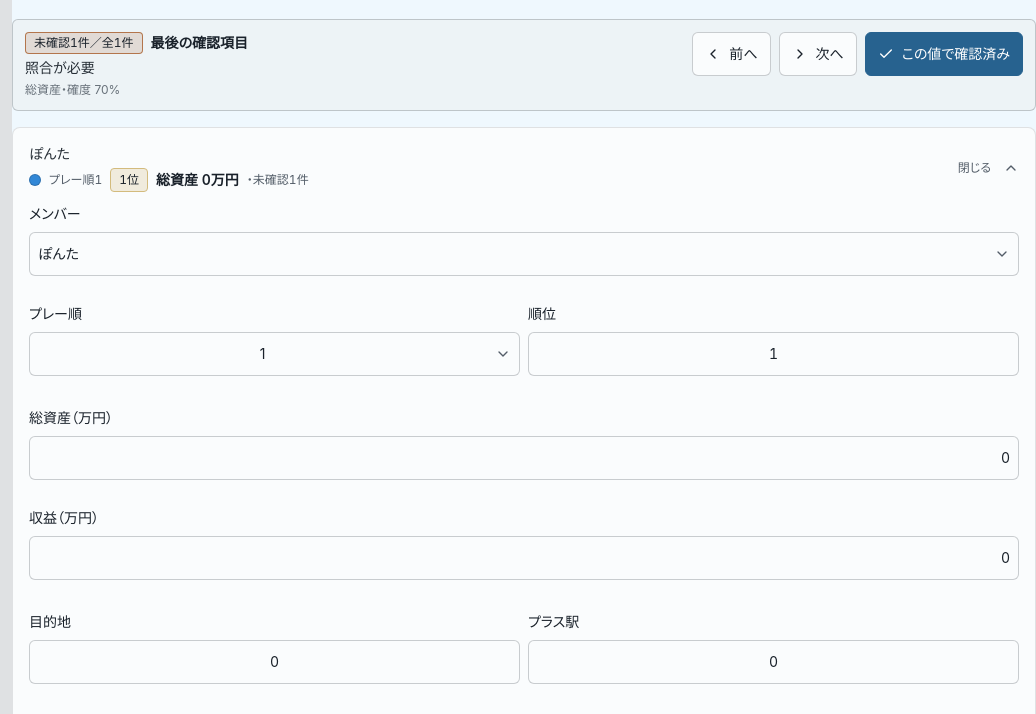
it: ScoreGrid › moves focus to the submit action before the final acknowledgement removes the toolbar
This screenshot has width=1036, height=714.
Click the button "この値で確認済み".
click(944, 54)  # box [865,32,1023,76]
(page scrolled)
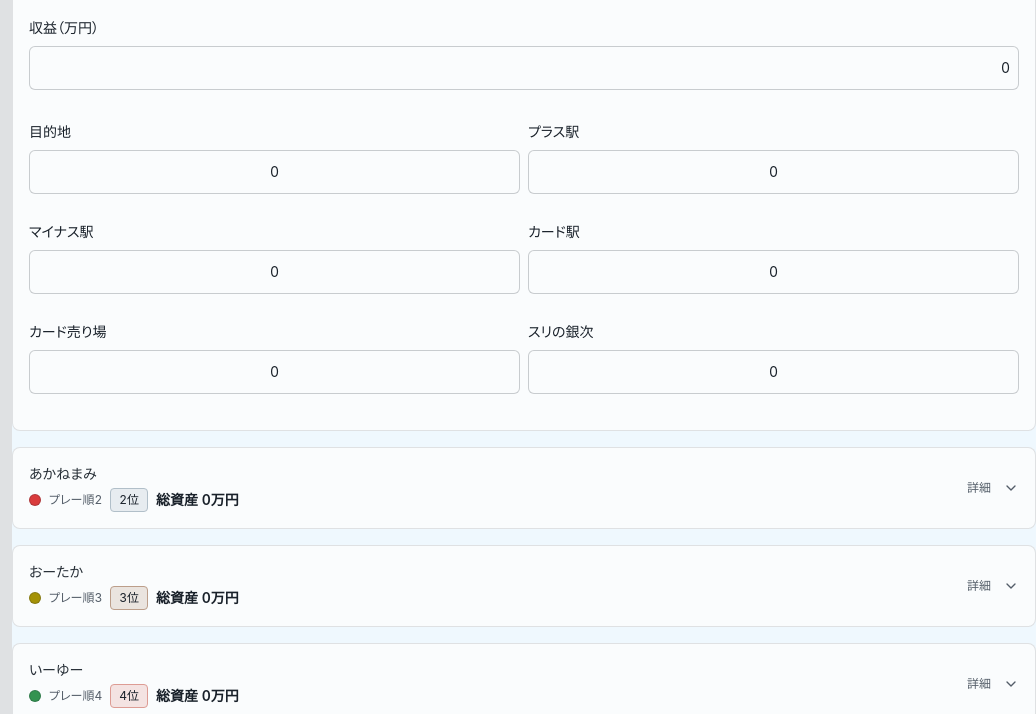
Expected: the field labelled "OCRの確認項目" is gone
